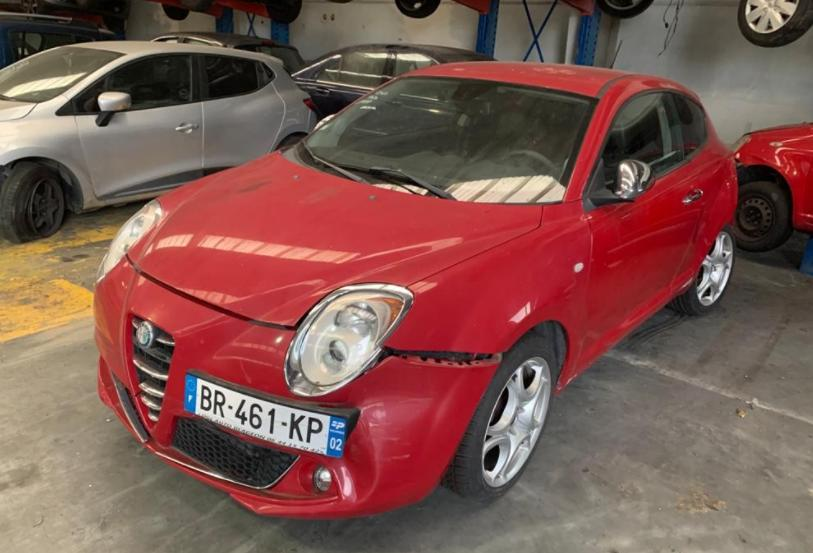Back-wheel: (666, 224, 736, 316)
Back-window: (672, 92, 706, 156)
Fender: (386, 199, 593, 394)
Front-bumper: (93, 255, 501, 519)
Front-door: (578, 87, 703, 356)
Front-wheel: (441, 331, 558, 502)
Front-window: (602, 93, 681, 182)
Grille: (124, 312, 175, 431)
Headlight: (284, 282, 413, 396), (97, 198, 162, 285)
Hood: (126, 147, 542, 327)
License-plate: (184, 369, 360, 460)
Mirror: (581, 156, 655, 214)
Quarter-panel: (671, 133, 739, 300)
Rocker-panel: (567, 288, 671, 386)
Roof: (401, 61, 644, 97)
Windshield: (282, 76, 600, 204)
